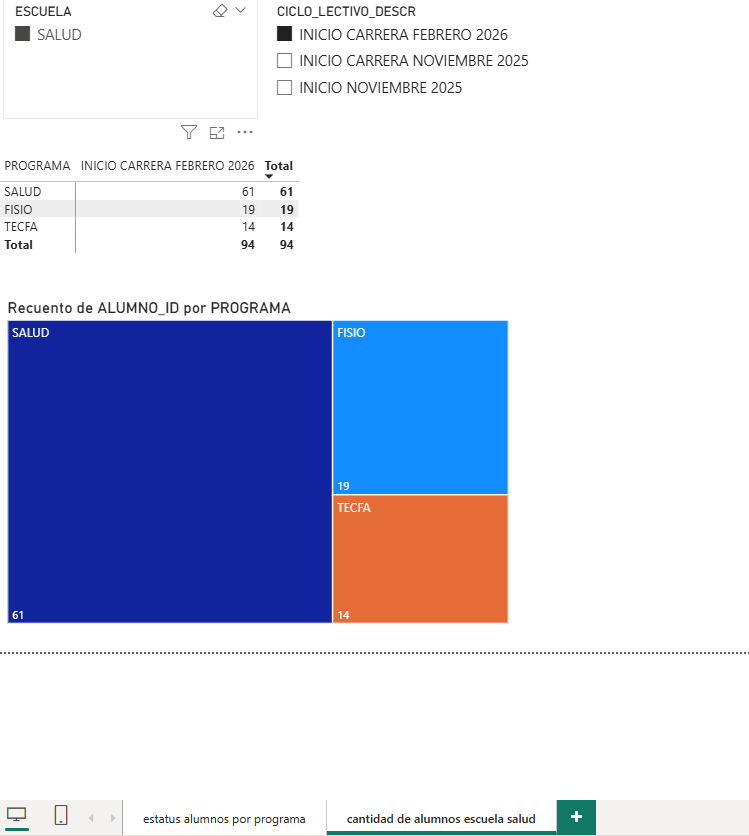

What the dashboard file says about the page in this screenshot:
{"tool":"powerbi","page":{"name":"cantidad de alumnos escuela salud","canvas":[1280,720],"ordinal":1},"visuals":[{"type":"slicer","fields":{"Values":["cant_matriculados_unicos_escuela_salud.CICLO_LECTIVO_DESCR"]},"box":[292.6,11.9,363.1,130.1],"z":0},{"type":"pivotTable","fields":{"Rows":["cant_matriculados_unicos_escuela_salud.PROGRAMA"],"Values":["CountNonNull(cant_matriculados_unicos_escuela_salud.ALUMNO_ID)"],"Columns":["cant_matriculados_unicos_escuela_salud.CICLO_LECTIVO_DESCR"]},"box":[0,177.7,798.8,158.2],"z":1000},{"type":"treemap","fields":{"Values":["CountNonNull(cant_matriculados_unicos_escuela_salud.ALUMNO_ID)"],"Details":["cant_matriculados_unicos_escuela_salud.PROGRAMA"]},"box":[8.7,336,552.8,357.7],"z":2000},{"type":"slicer","fields":{"Values":["cant_matriculados_unicos_escuela_salud.ESCUELA"]},"box":[8.7,11.9,276.4,130.1],"z":2001}]}

Visuals, with their boxes on the page's 1280x720 design canvas (x1, y1, x2, y2). These are canvas units, not pixel positions in the 749x836 screenshot, which may show the page scaled, cropped or inside an application window:
slicer - cant_matriculados_unicos_escuela_salud.CICLO_LECTIVO_DESCR: rect(293, 12, 656, 142)
pivotTable - cant_matriculados_unicos_escuela_salud.PROGRAMA x CountNonNull(cant_matriculados_unicos_escuela_salud.ALUMNO_ID): rect(0, 178, 799, 336)
treemap - CountNonNull(cant_matriculados_unicos_escuela_salud.ALUMNO_ID) x cant_matriculados_unicos_escuela_salud.PROGRAMA: rect(9, 336, 562, 694)
slicer - cant_matriculados_unicos_escuela_salud.ESCUELA: rect(9, 12, 285, 142)
